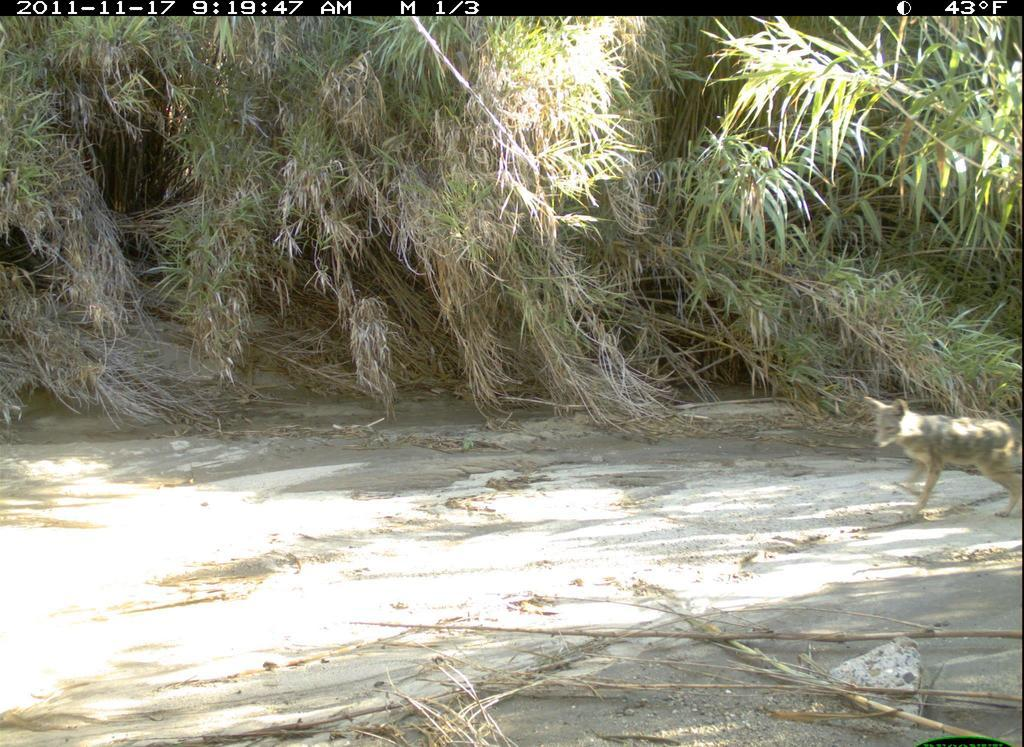coyote: (857, 388, 1023, 524)
